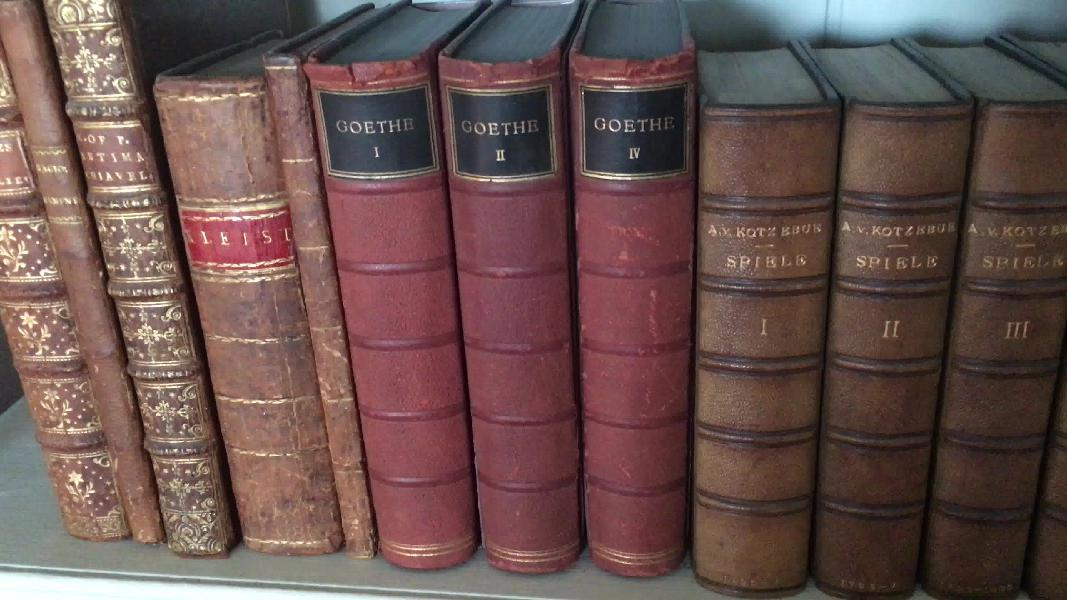Aa6-10: (259, 51, 376, 568)
Aa6-11_13: (302, 41, 717, 583)
Aa6-14_17: (696, 98, 1067, 592)
Aa6-7: (1, 4, 171, 556)
Aa6-8: (45, 3, 247, 552)
Aa6-9: (152, 70, 349, 552)
